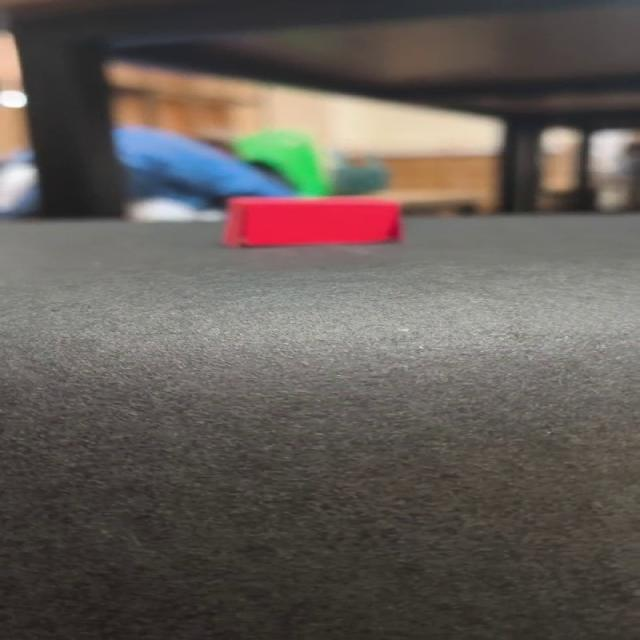red block: (221, 194, 403, 247)
